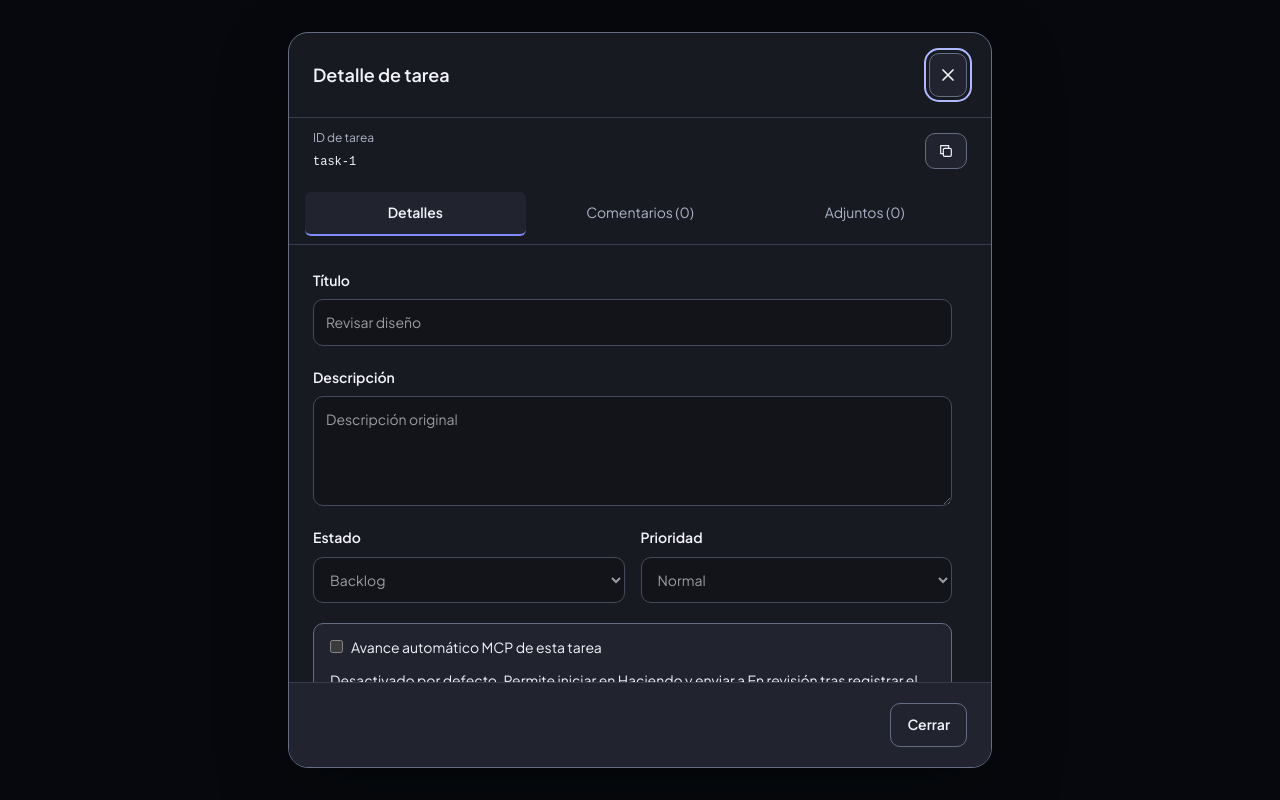
Detalle de tarea › conserva comentario ante fallo y comunica error sin vaciarlo
Click the tab "Comentarios (0)" at (640, 214), box left=530, top=192, right=750, bottom=236
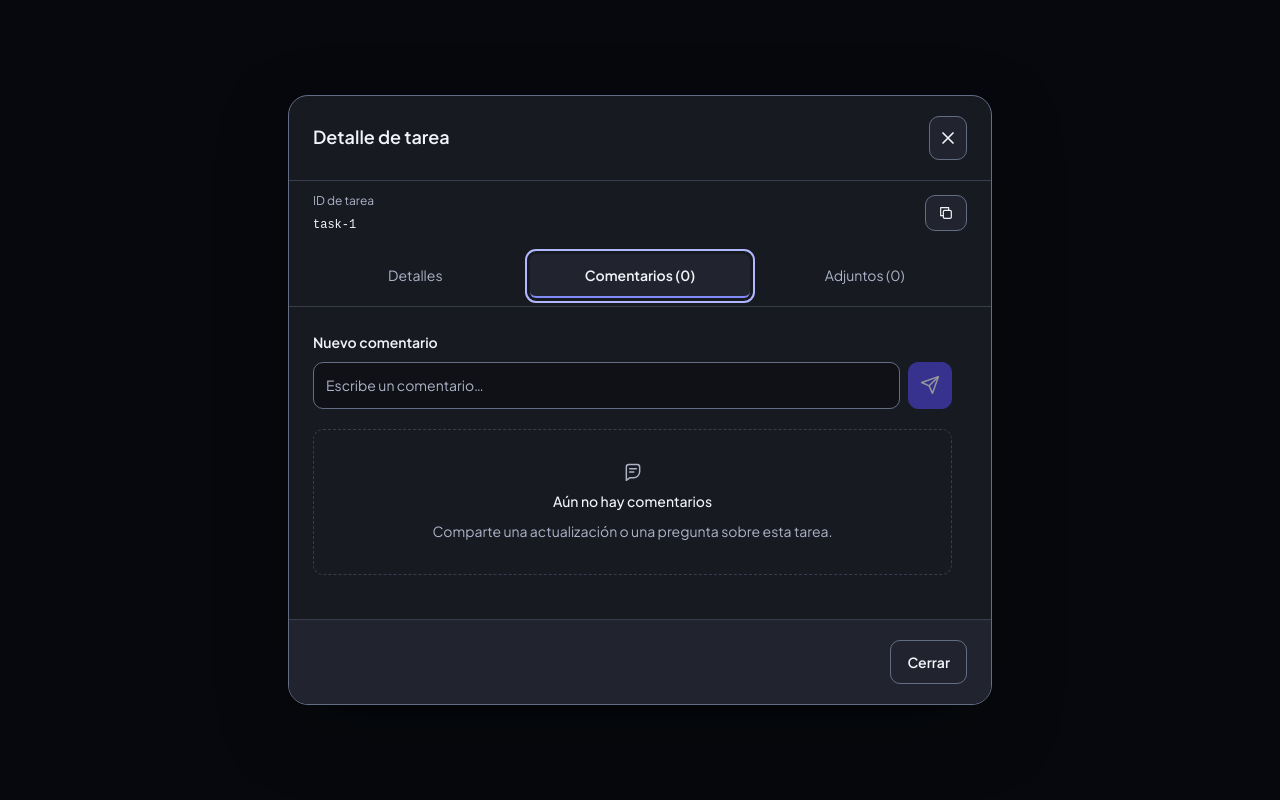
Type "Mi actualización" into the field with placeholder "Escribe un comentario…" at (606, 385), box left=313, top=362, right=900, bottom=409
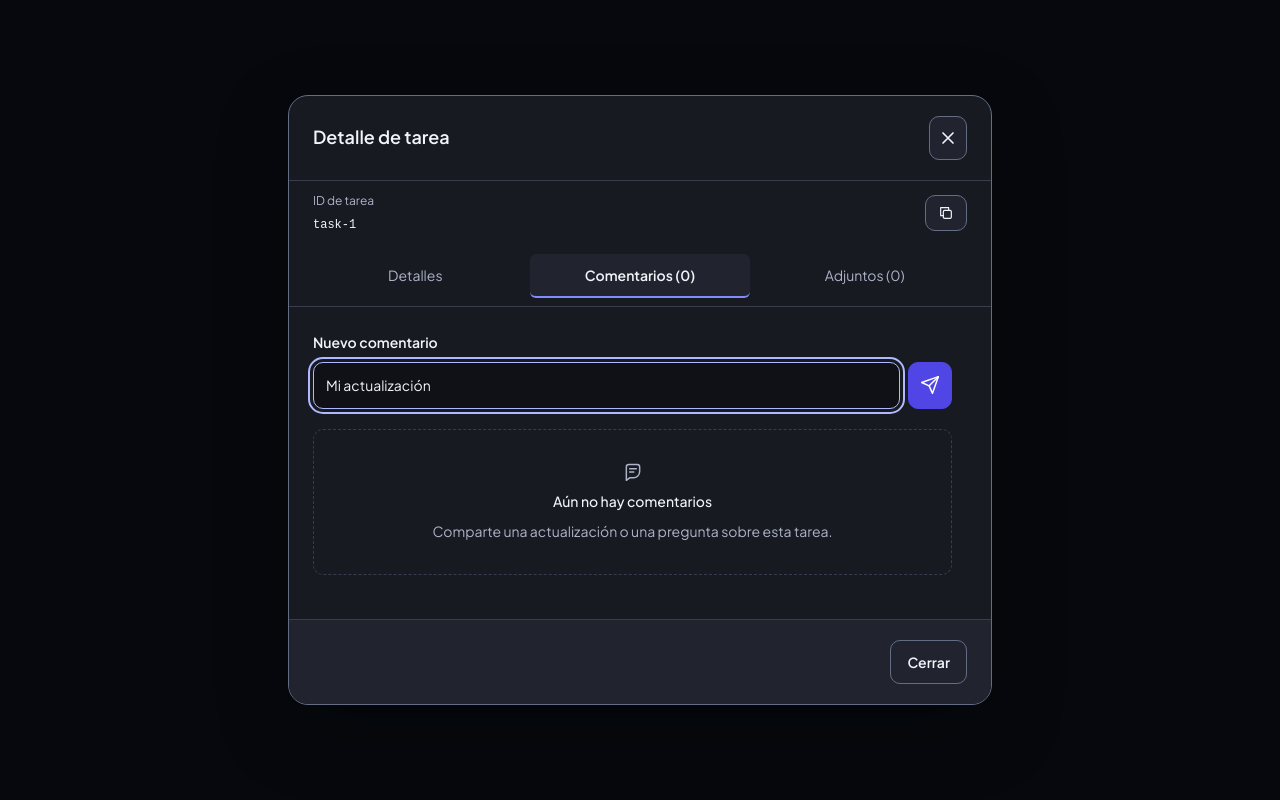
Click the button named "Enviar" at (930, 385), box left=908, top=362, right=952, bottom=409
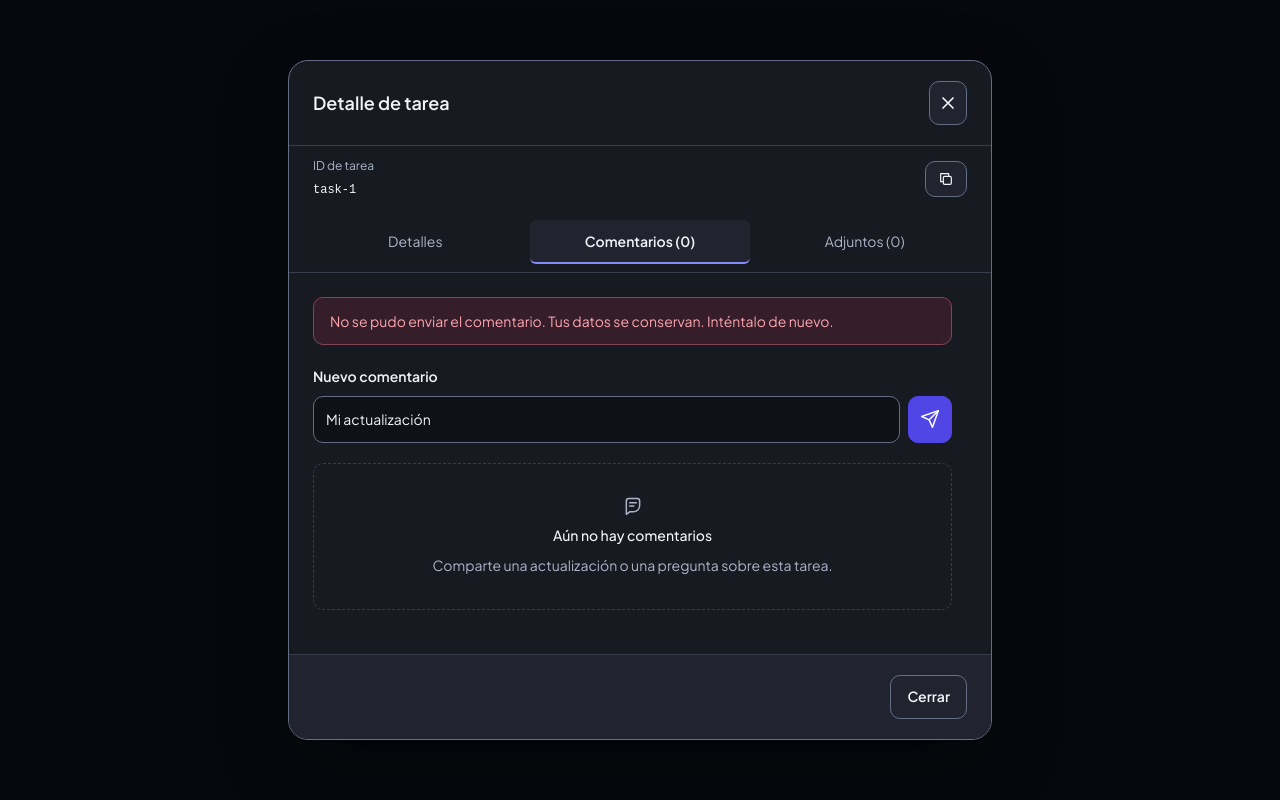
Expected: the message shows "No se pudo enviar", left=330, top=312, right=834, bottom=330
